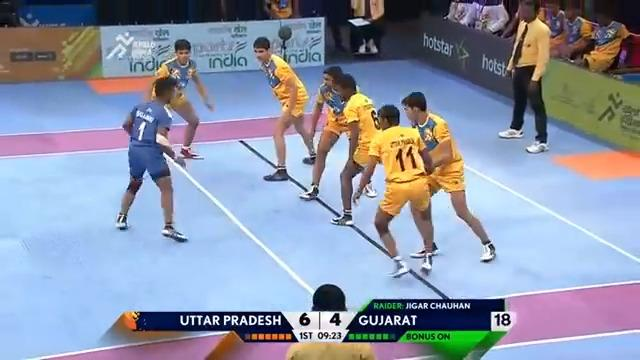Player: (400, 91, 496, 262), (354, 102, 438, 279), (250, 34, 318, 182), (144, 38, 210, 152), (317, 67, 348, 184), (334, 76, 368, 176)
Raider: (112, 73, 190, 244)
referee: (497, 0, 551, 153), (348, 0, 385, 56)
